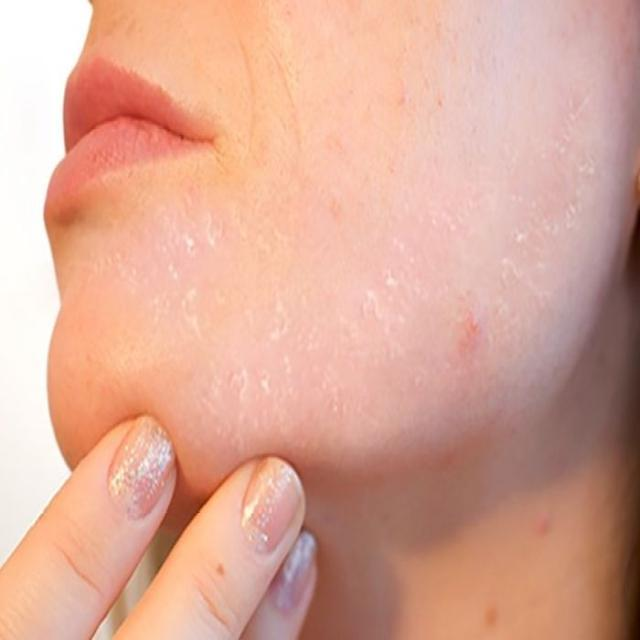dry: (159, 168, 234, 315), (502, 216, 584, 321), (240, 363, 328, 454), (366, 244, 439, 346)
